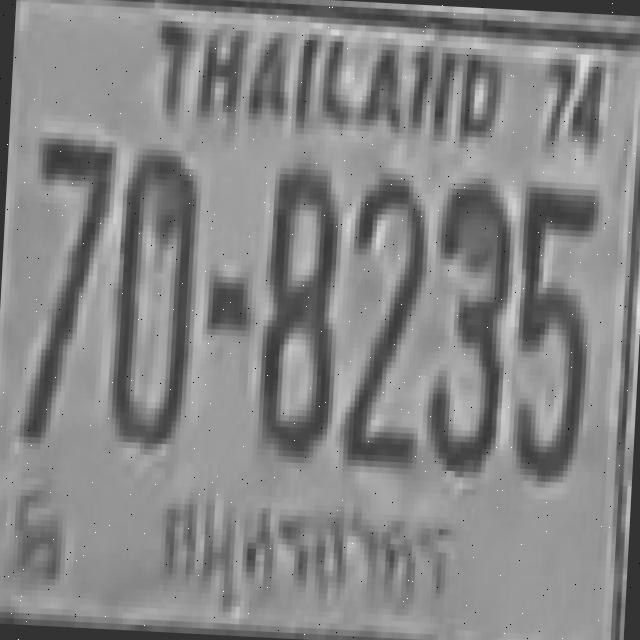0: (106, 142, 200, 439)
2: (342, 170, 430, 436)
3: (421, 173, 514, 470)
5: (507, 180, 596, 478)
7: (25, 132, 113, 423), (28, 132, 113, 353), (30, 132, 114, 330)
8: (253, 159, 341, 450)
SamutSakhon: (140, 472, 477, 640)
